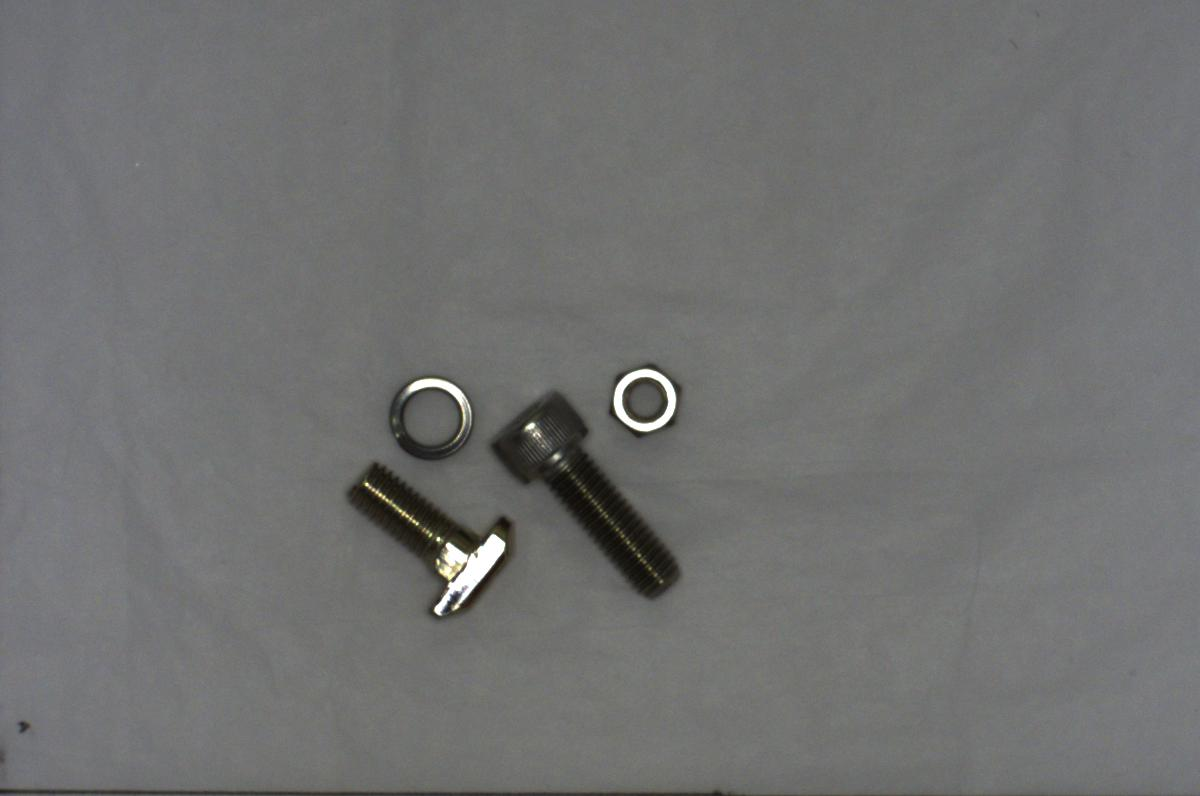Hexagon nut: (599, 358, 686, 439)
Hexagon screw: (490, 389, 681, 600)
Spring washer: (382, 374, 479, 465)
T-shaped screw: (335, 454, 514, 620)
